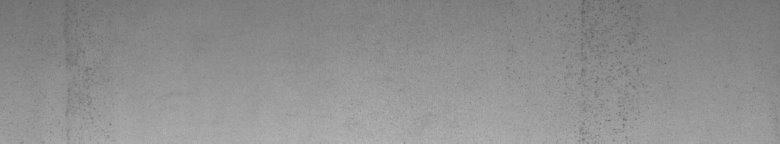ib: (581, 4, 644, 128)
